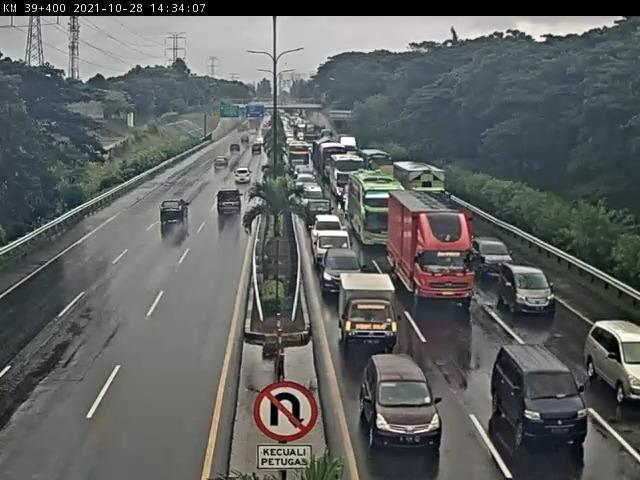bus: (349, 172, 402, 248), (323, 152, 363, 194), (287, 140, 309, 170)
car: (488, 343, 588, 444), (359, 358, 444, 453), (336, 266, 396, 345), (588, 315, 640, 406), (495, 262, 551, 312), (321, 249, 362, 291), (314, 229, 353, 270), (467, 236, 509, 271), (299, 195, 331, 225), (159, 197, 192, 225), (217, 190, 245, 217), (308, 214, 347, 233), (450, 226, 473, 257), (297, 179, 321, 200), (234, 167, 256, 187), (215, 157, 232, 174), (295, 168, 313, 183)
truck: (390, 187, 469, 297), (393, 160, 457, 214), (319, 143, 348, 179), (363, 149, 392, 170)
